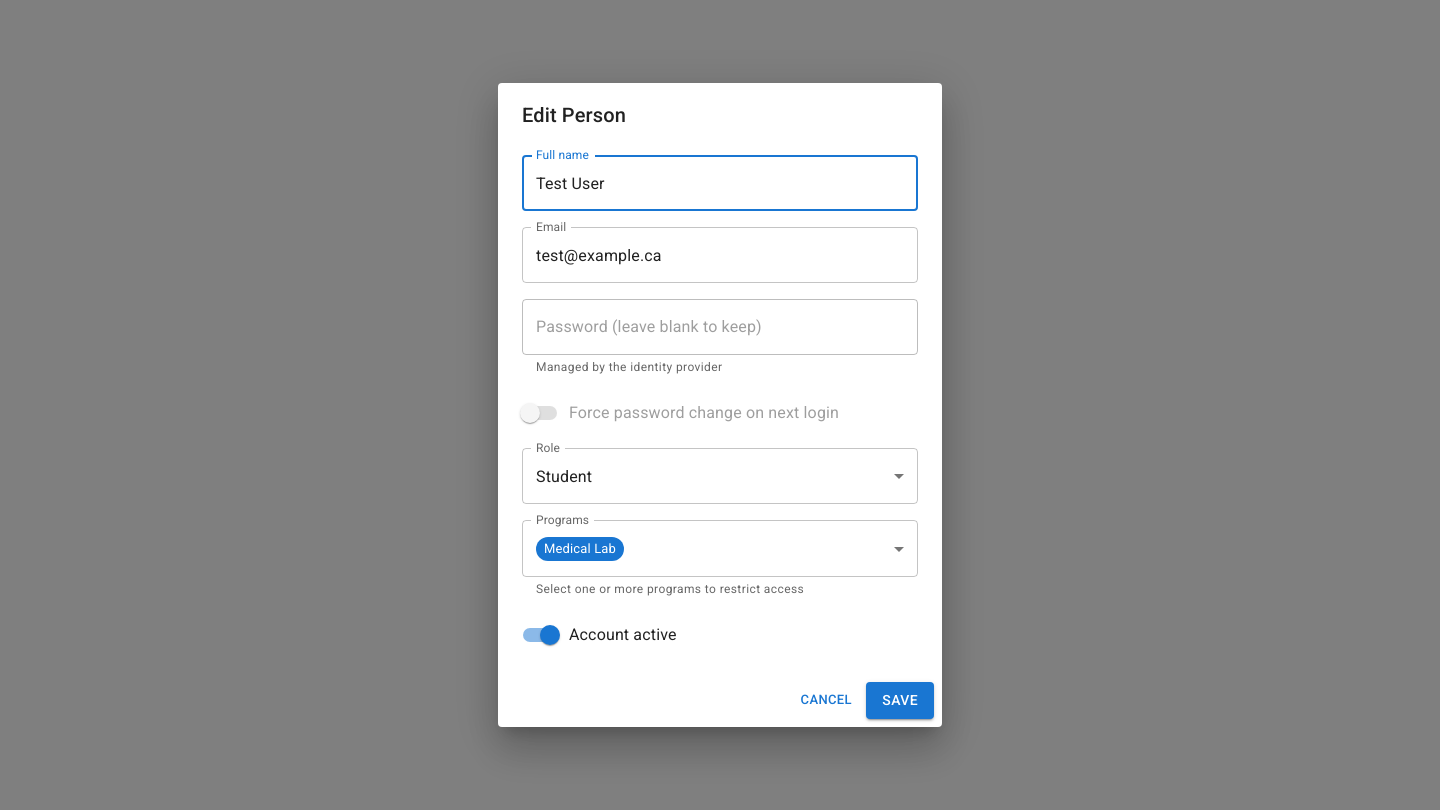
Test: AddEditPersonModal › controls forced change for oidc=true password=true
expect the switch labelled "Force password change on next login" is disabled: met, box [520,403,839,423]
Hover over the text "Force password change on next login" at coordinates (704, 413), box [569,401,839,425]
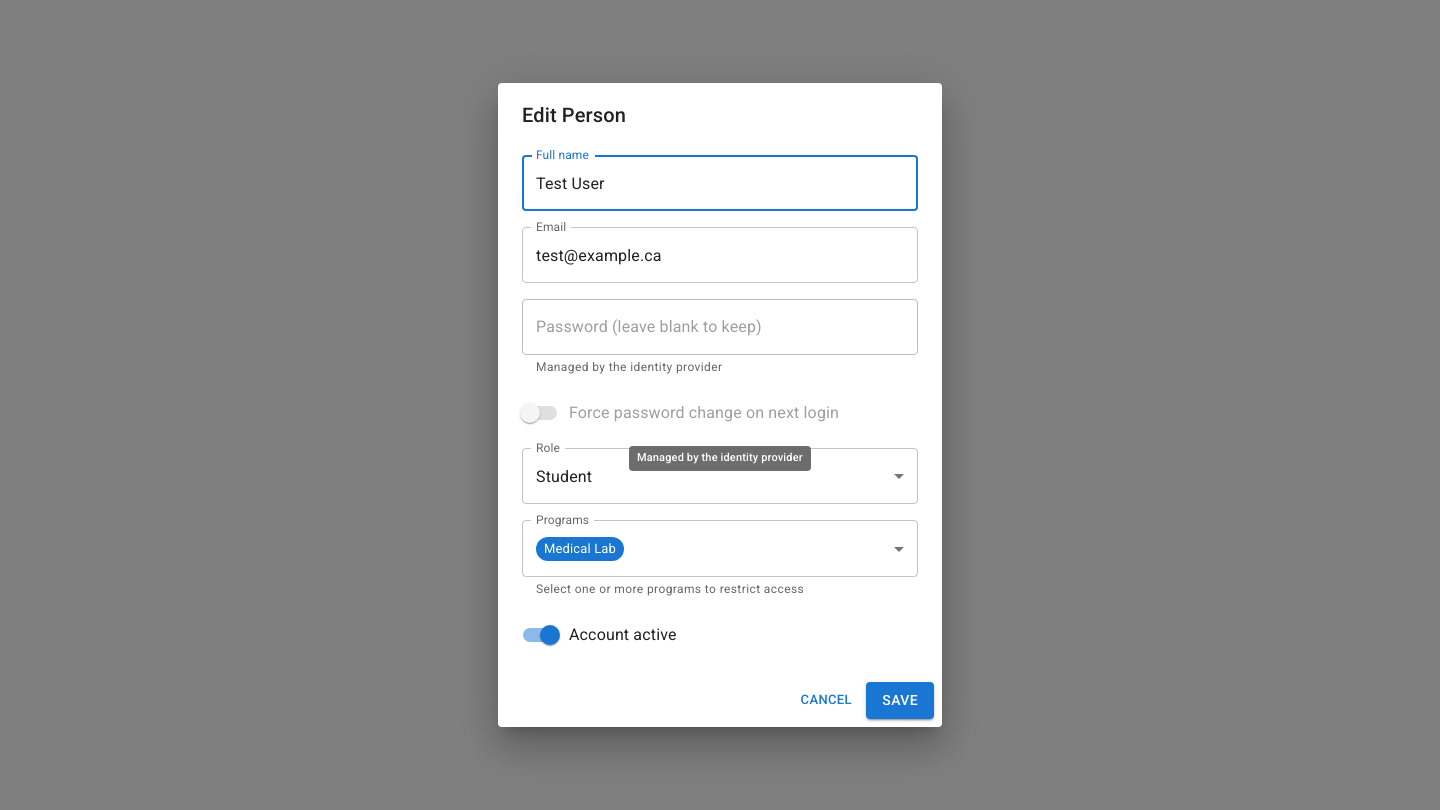
expect the tooltip reads "Managed by the identity provider": met, box [637,451,803,464]
